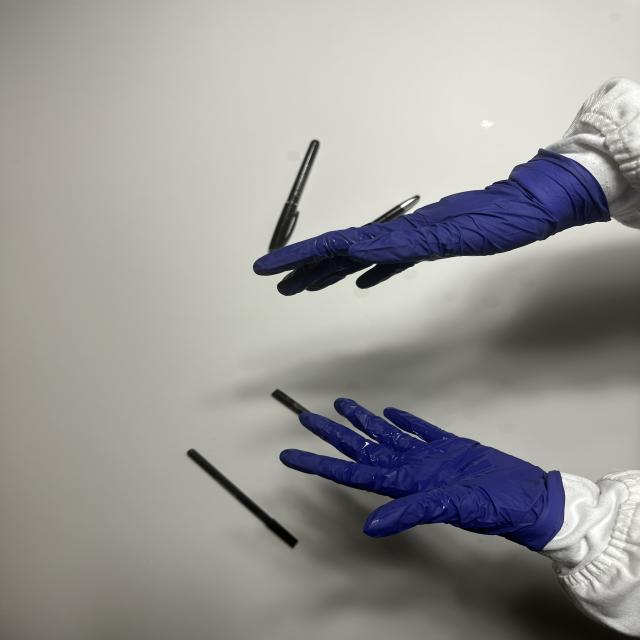gloves_contaminated: (254, 151, 609, 295), (280, 399, 564, 551)
